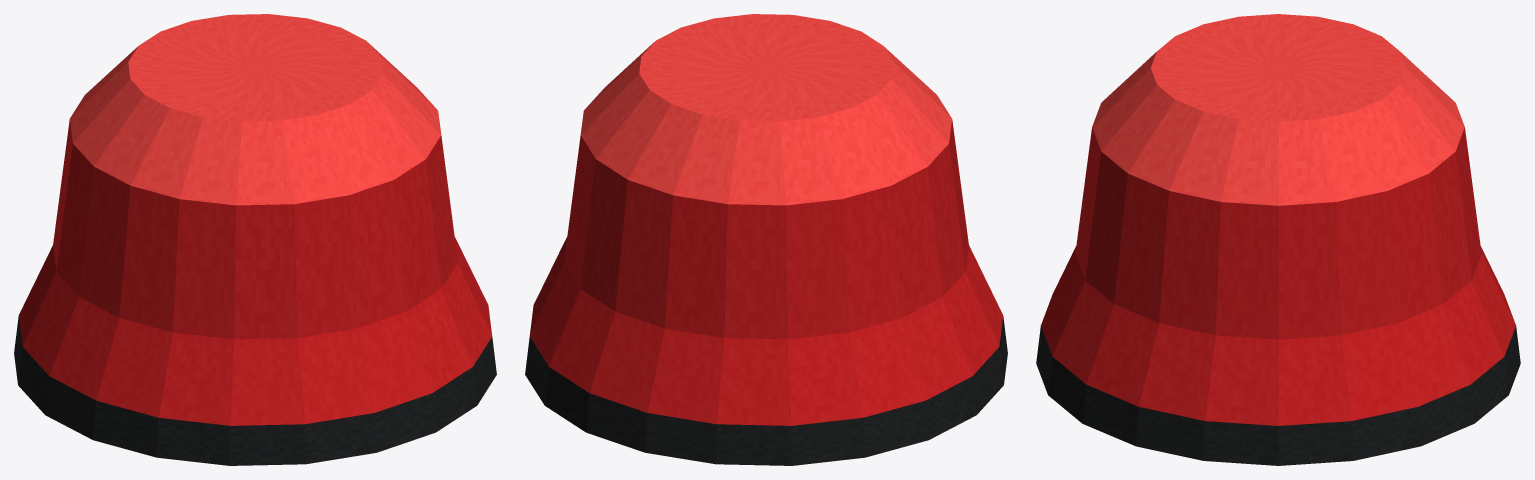
File: check_on.obj
3 views of the same model, side by side, from view 1: azimuth 30°, elevation 25°; view 2: azimuth 150°, elevation 25°; view 3: azimuth 270°, elevation 25° (orthographic).
Visible parts, largest first — view 1: pedal; view 2: pedal; view 3: pedal.
Boxes of the visible parts, x1,y1,x2,y2 form: pedal: (14, 14, 496, 465); pedal: (525, 14, 1007, 465); pedal: (1036, 14, 1520, 465).
Size of the model in its own units: 0.0325 by 0.0219 by 0.0325.
